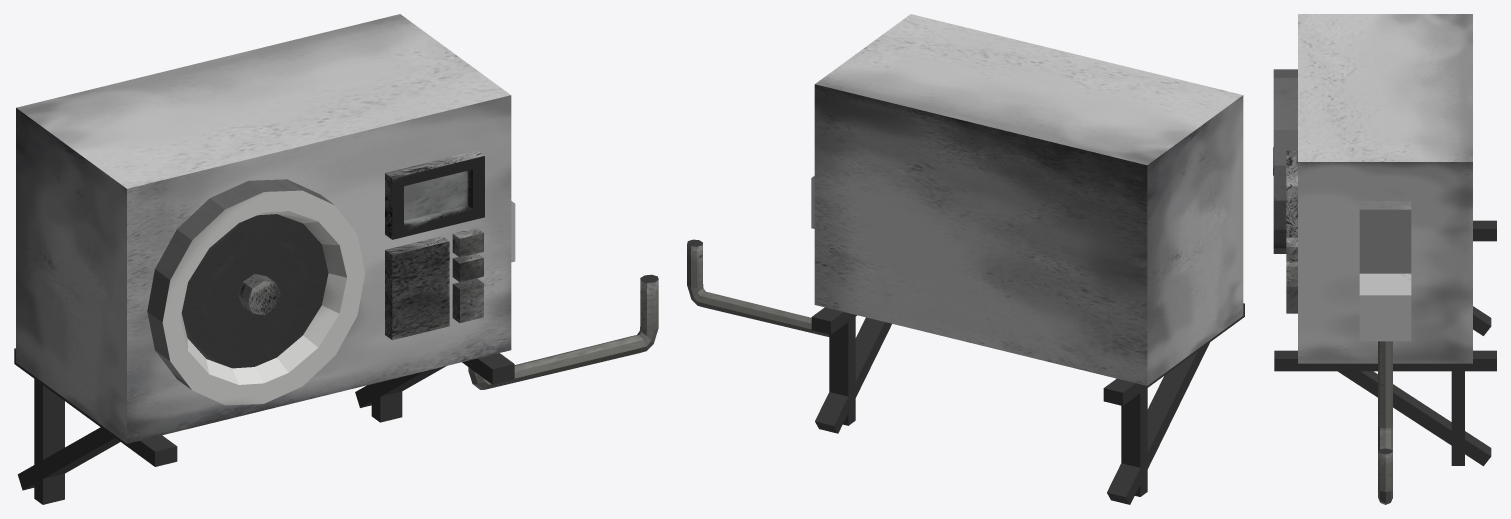
The model's file is aircon1.fbx.
3 views of the same model, side by side, from view 1: azimuth 30°, elevation 25°; view 2: azimuth 150°, elevation 25°; view 3: azimuth 270°, elevation 25° (orthographic). The views are drawn at different scales.
Visible parts, largest first — view 1: Cube.025; view 2: Cube.025; view 3: Cube.025.
Boxes of the visible parts, <box> form: Cube.025: <box>14,14,658,504</box>; Cube.025: <box>687,14,1244,504</box>; Cube.025: <box>1273,14,1496,504</box>.
Size of the model in its own units: 114 by 72.9 by 47.88.
1 material, 1 textured.
